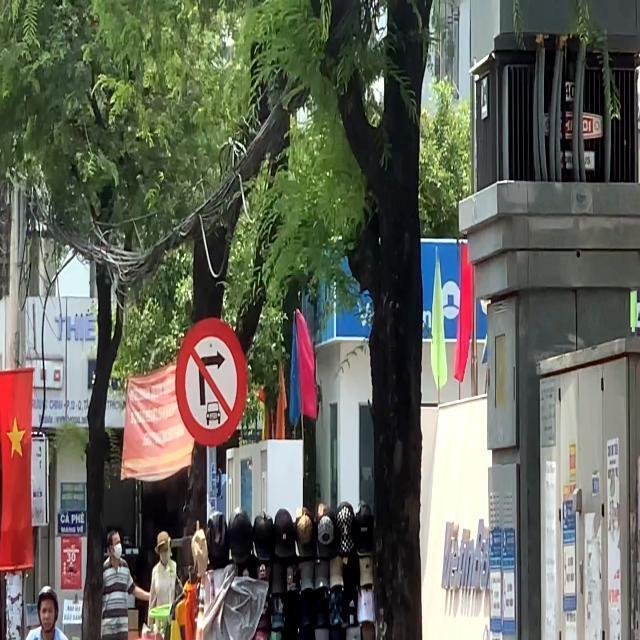123b-cam-re-phai: (174, 319, 248, 442)
